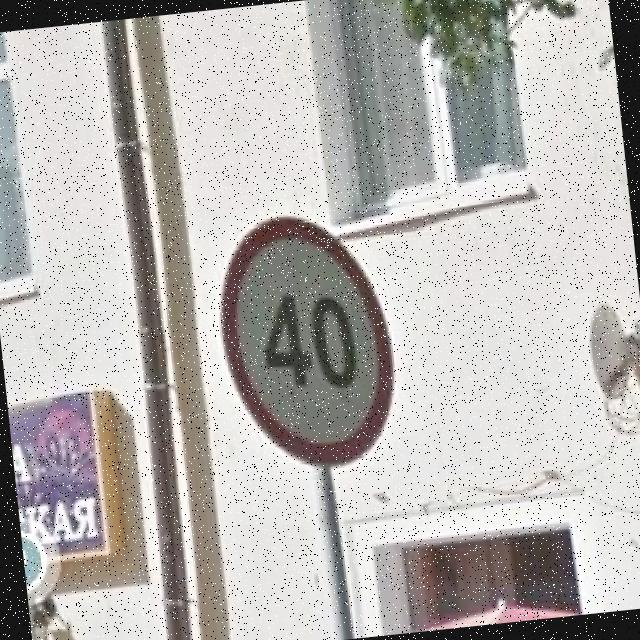Ograniczenie predkosci do 40: (208, 199, 406, 476)
